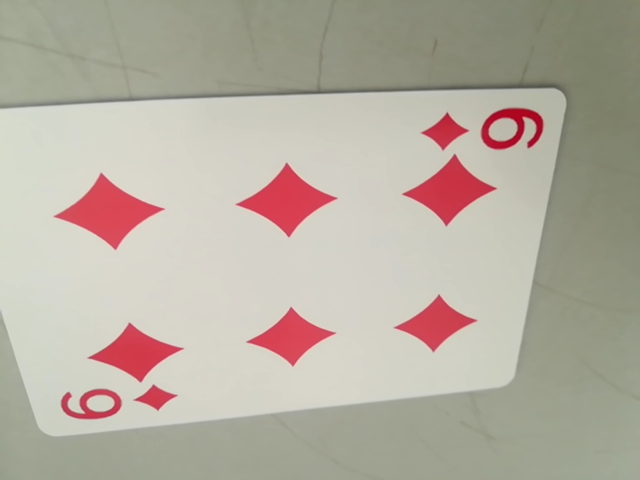fk 6: (424, 101, 546, 158), (52, 378, 185, 430)
